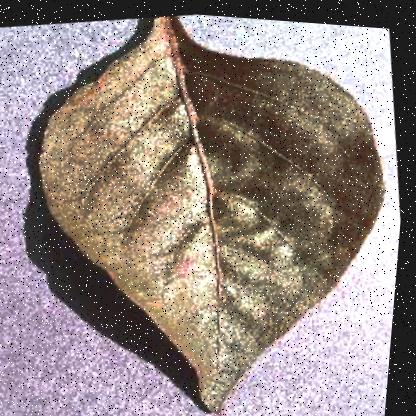Healthy: (3, 1, 416, 415)
